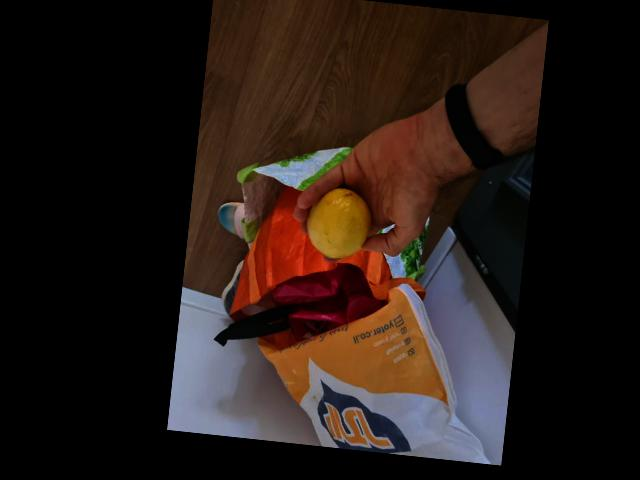lemon: (309, 182, 373, 262)
